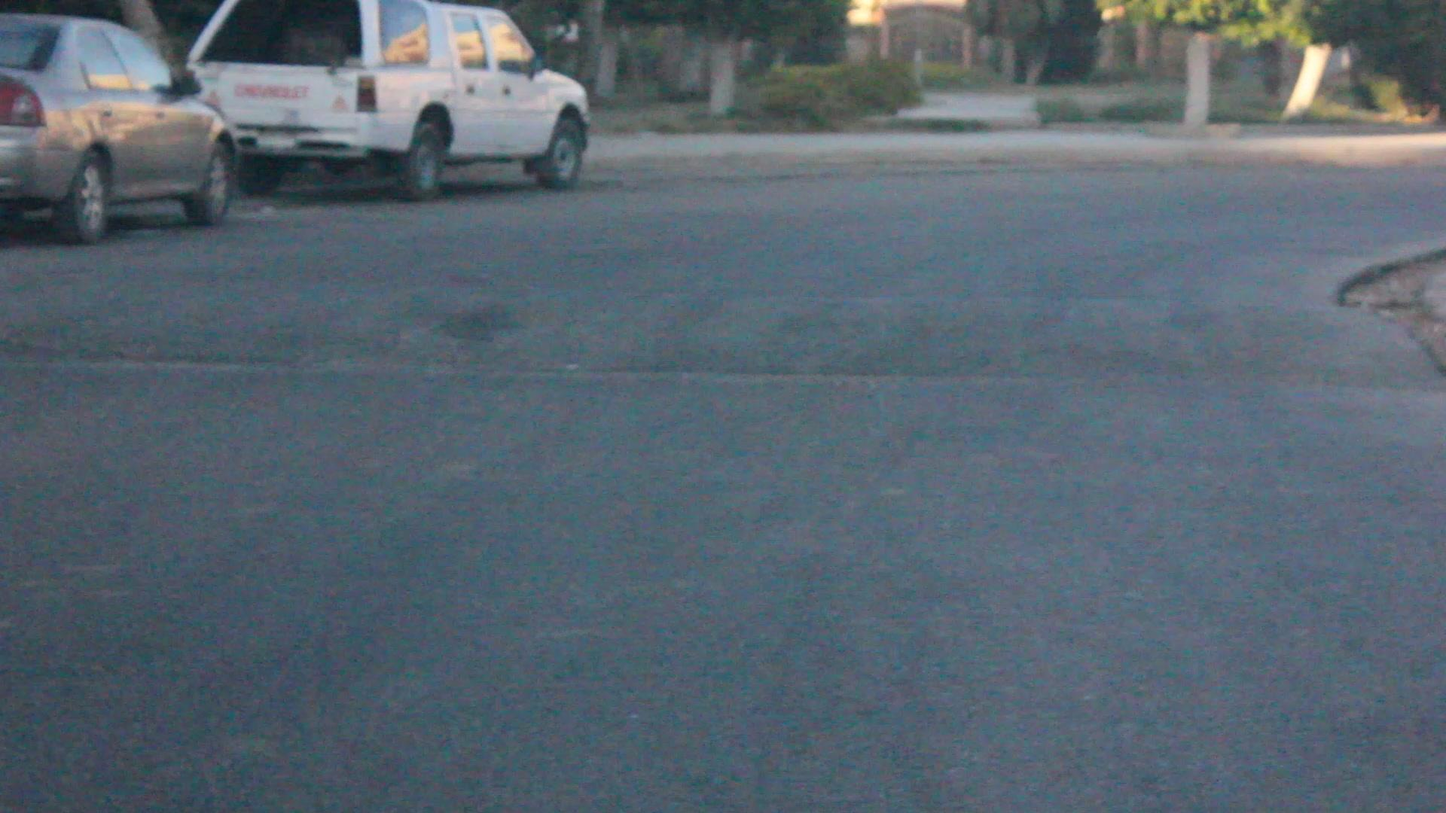Bump: (13, 292, 1393, 378)
